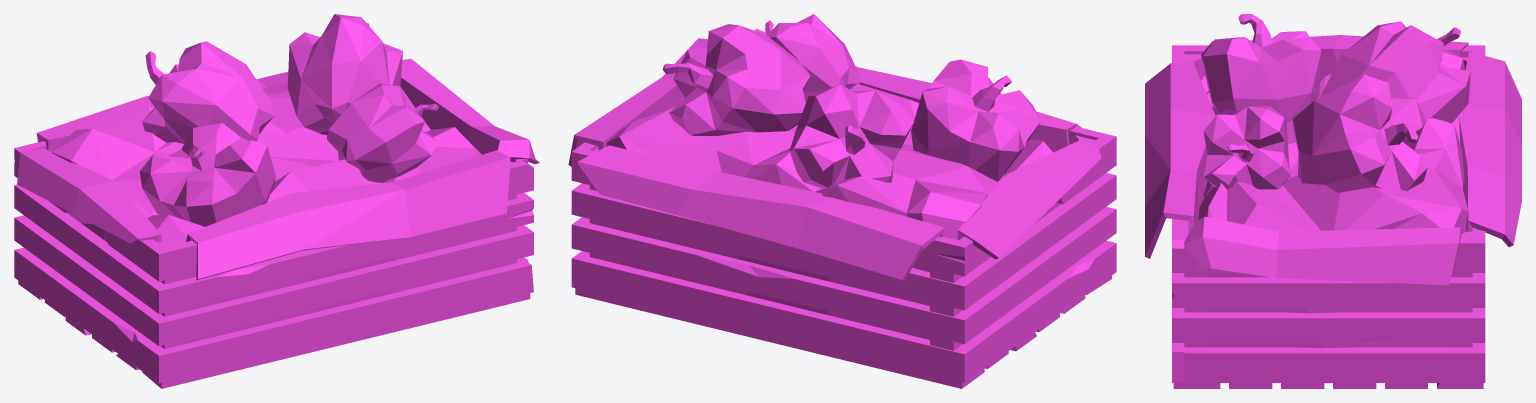
File: SM_Crate_Wood_Medium_Paper_Peppers.fbx
3 renders of one model, left to right at view 1: azimuth 30°, elevation 25°; view 2: azimuth 150°, elevation 25°; view 3: azimuth 270°, elevation 25°, orthographic. The views are drawn at different scales.
Parts seen in each view (by area): view 1: SM_Crate_Wood_Medium_Paper_Peppers; view 2: SM_Crate_Wood_Medium_Paper_Peppers; view 3: SM_Crate_Wood_Medium_Paper_Peppers.
Part boxes in pixels (left/top/right/bottom): SM_Crate_Wood_Medium_Paper_Peppers: left=14, top=14, right=539, bottom=388; SM_Crate_Wood_Medium_Paper_Peppers: left=568, top=14, right=1116, bottom=388; SM_Crate_Wood_Medium_Paper_Peppers: left=1145, top=14, right=1521, bottom=388.
Size of the model in its own units: 0.663 by 0.3733 by 0.4887.
